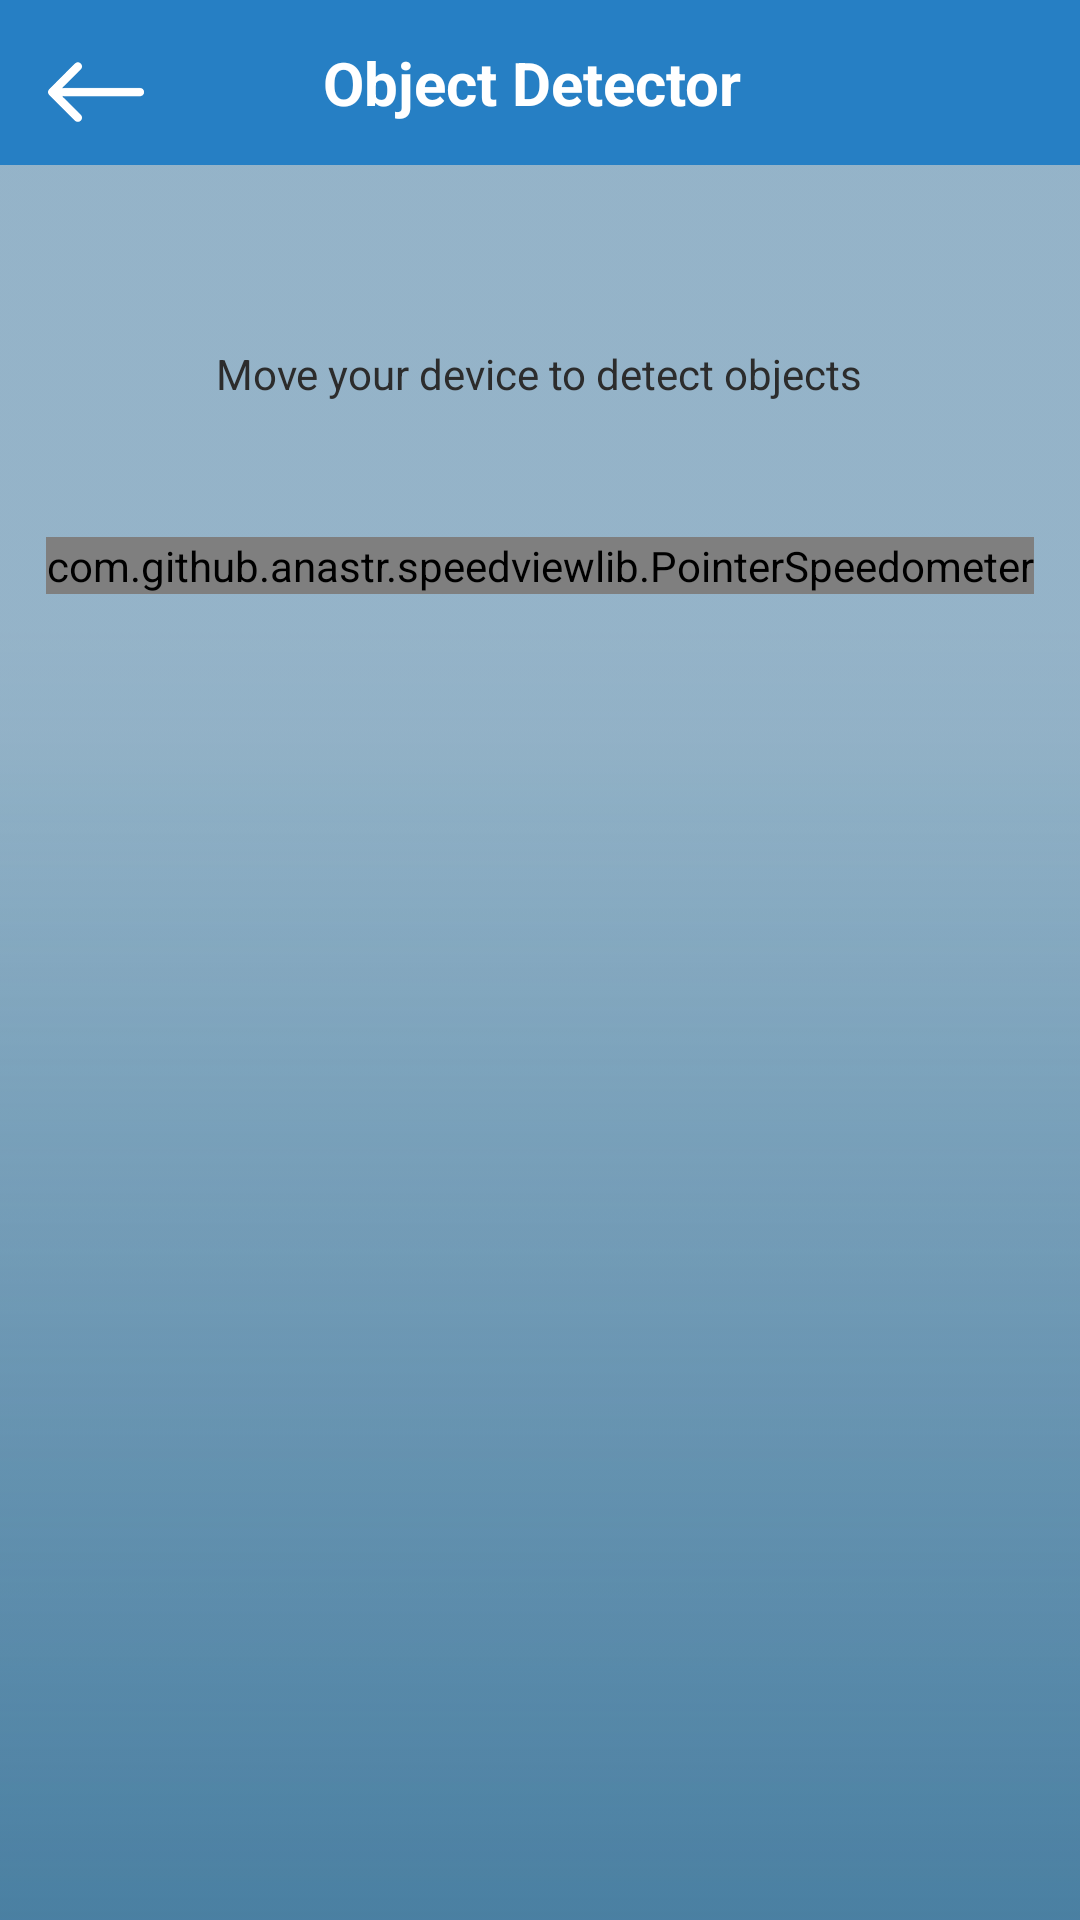

Icon bounding boxes for this 1080 x 1920 phone screenshot, format (x1, y1, x2, y2):
left arrow: (48, 62, 144, 122)
